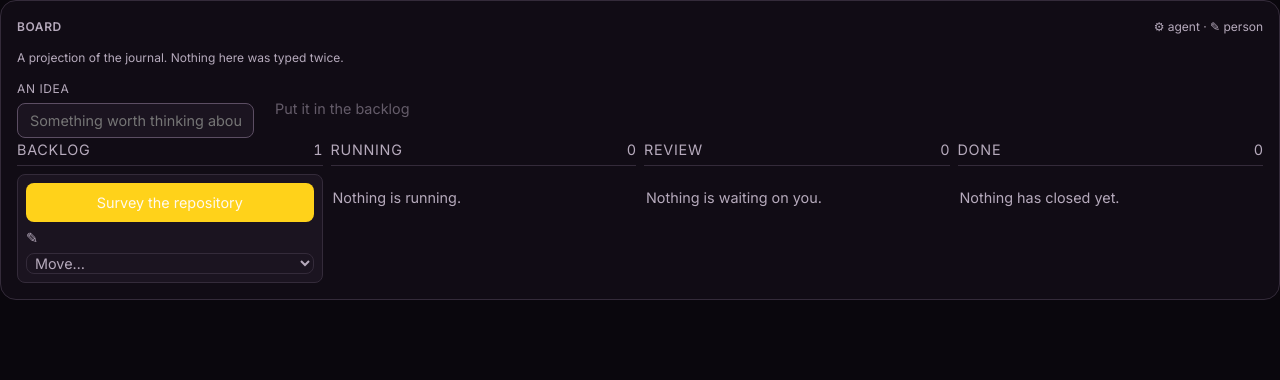
a command that REJECTS puts the card back › does not leave it in a column it never reached
Select "Running" in the dropdown with class "task-card-move": [170, 263] box [26,253,314,274]
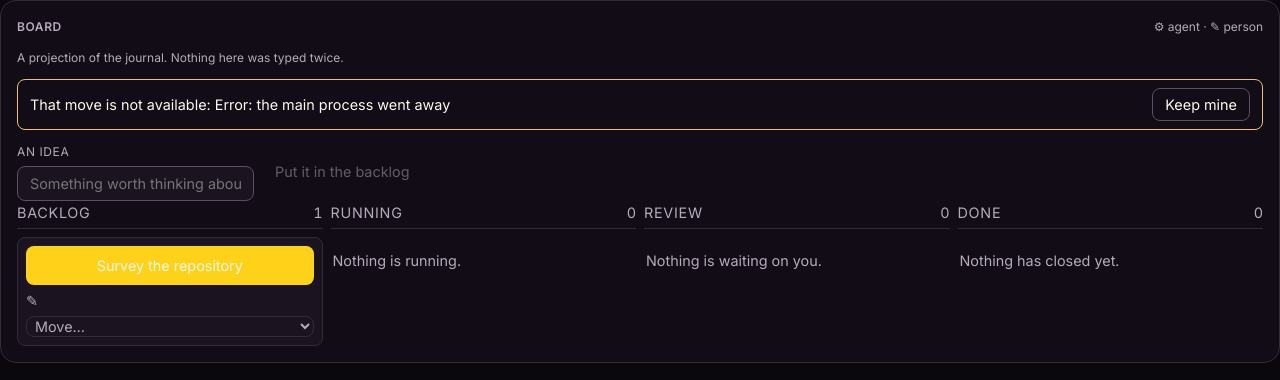
Check: the text "Backlog" is shown, box [17,201,90,224]
Check: the message "That move is not available: Error: the main process went away Keep mine" is shown, box [17,79,1263,130]
